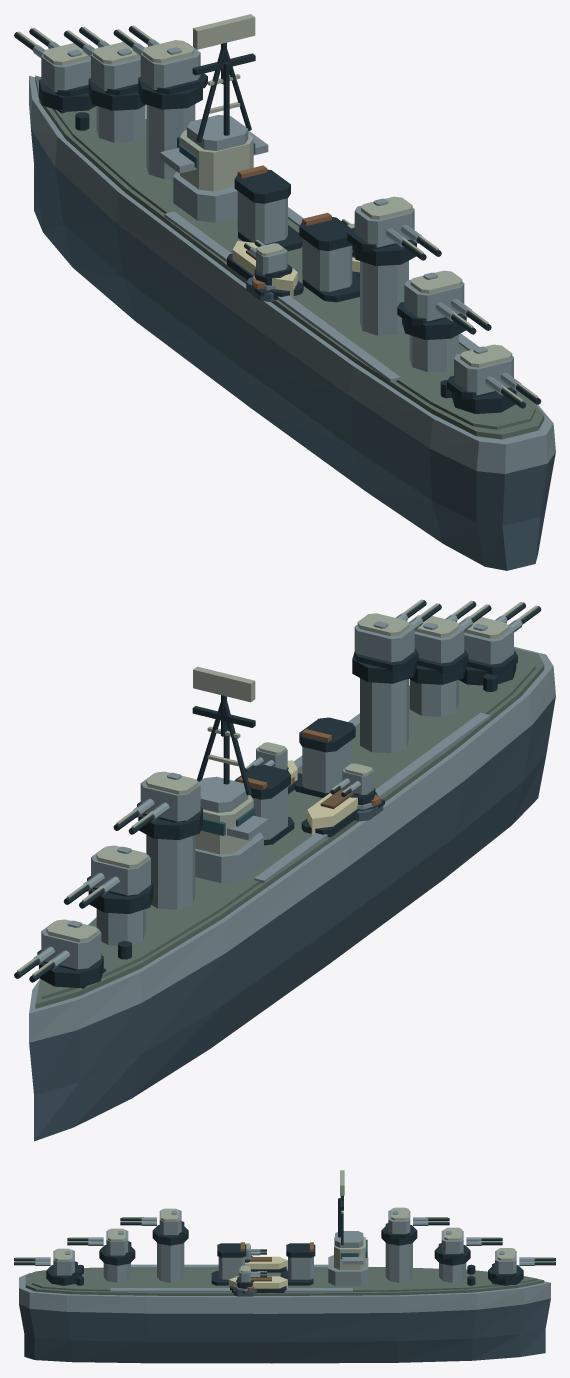
The model's file is historic-juneau.glb.
The picture shows the model from 3 angles, top to bottom: view 1: azimuth 30°, elevation 25°; view 2: azimuth 150°, elevation 25°; view 3: azimuth 270°, elevation 25°; orthographic projection. The views are drawn at different scales.
Parts seen in each view (by area): view 1: historic-juneau-historic-juneau-geometry, historic-juneau-part_bridge.104-geometry, historic-juneau-turret_main_2.064-geometry, historic-juneau-turret_main_4.014-geometry, historic-juneau-turret_main_3.039-geometry, historic-juneau-turret_main_5.008-geometry, historic-juneau-historic_funnel_1.054-geometry, historic-juneau-historic_funnel_0.102-geometry, historic-juneau-turret_main_1.071-geometry, historic-juneau-turret_main_0.075-geometry, historic-juneau-turret_aa_aa-port.106-geometry; view 2: historic-juneau-historic-juneau-geometry, historic-juneau-part_bridge.104-geometry, historic-juneau-turret_main_3.039-geometry, historic-juneau-turret_main_0.075-geometry, historic-juneau-turret_main_2.064-geometry, historic-juneau-turret_main_1.071-geometry, historic-juneau-turret_main_4.014-geometry, historic-juneau-historic_funnel_1.054-geometry, historic-juneau-turret_main_5.008-geometry, historic-juneau-historic_funnel_0.102-geometry, historic-juneau-turret_aa_aa-port.106-geometry, historic-juneau-turret_aa_aa-starboard.102-geometry; view 3: historic-juneau-historic-juneau-geometry, historic-juneau-part_bridge.104-geometry, historic-juneau-turret_main_1.071-geometry, historic-juneau-turret_main_2.064-geometry, historic-juneau-turret_main_4.014-geometry, historic-juneau-turret_main_3.039-geometry, historic-juneau-turret_main_0.075-geometry, historic-juneau-turret_main_5.008-geometry, historic-juneau-historic_funnel_0.102-geometry, historic-juneau-historic_funnel_1.054-geometry, historic-juneau-turret_aa_aa-starboard.102-geometry.
Part boxes in pixels (x1,y1,x2,y2): historic-juneau-historic-juneau-geometry: (29,75,555,570); historic-juneau-part_bridge.104-geometry: (160,14,268,222); historic-juneau-turret_main_2.064-geometry: (113,25,207,109); historic-juneau-turret_main_4.014-geometry: (397,270,491,339); historic-juneau-turret_main_3.039-geometry: (347,196,441,265); historic-juneau-turret_main_5.008-geometry: (447,344,541,413); historic-juneau-historic_funnel_1.054-geometry: (299,212,359,302); historic-juneau-historic_funnel_0.102-geometry: (234,165,302,251); historic-juneau-turret_main_1.071-geometry: (63,26,145,110); historic-juneau-turret_main_0.075-geometry: (14,28,96,111); historic-juneau-turret_aa_aa-port.106-geometry: (244,240,292,285); historic-juneau-historic-juneau-geometry: (29,646,555,1141); historic-juneau-part_bridge.104-geometry: (192,666,268,883); historic-juneau-turret_main_3.039-geometry: (352,599,441,683); historic-juneau-turret_main_0.075-geometry: (14,919,103,987); historic-juneau-turret_main_2.064-geometry: (113,771,202,840); historic-juneau-turret_main_1.071-geometry: (63,845,153,913); historic-juneau-turret_main_4.014-geometry: (408,600,491,684); historic-juneau-historic_funnel_1.054-geometry: (294,717,355,797); historic-juneau-turret_main_5.008-geometry: (458,602,541,685); historic-juneau-historic_funnel_0.102-geometry: (234,764,294,845); historic-juneau-turret_aa_aa-port.106-geometry: (330,763,375,805); historic-juneau-turret_aa_aa-starboard.102-geometry: (245,742,288,771); historic-juneau-historic-juneau-geometry: (19,1243,550,1363); historic-juneau-part_bridge.104-geometry: (328,1170,368,1285); historic-juneau-turret_main_1.071-geometry: (434,1227,502,1265); historic-juneau-turret_main_2.064-geometry: (381,1207,449,1245); historic-juneau-turret_main_4.014-geometry: (67,1228,135,1265); historic-juneau-turret_main_3.039-geometry: (120,1208,188,1245); historic-juneau-turret_main_0.075-geometry: (488,1248,555,1285); historic-juneau-turret_main_5.008-geometry: (14,1248,81,1285); historic-juneau-historic_funnel_0.102-geometry: (280,1242,315,1285); historic-juneau-historic_funnel_1.054-geometry: (211,1242,246,1285); historic-juneau-turret_aa_aa-starboard.102-geometry: (236,1265,266,1288).
Bounding box in the file's own units: 0.6272 × 1.57 × 4.4.
